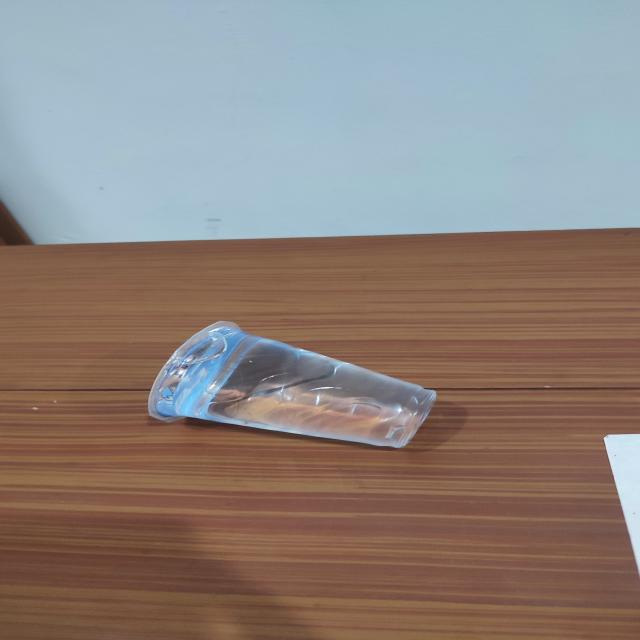air gelas: (136, 314, 447, 452)
